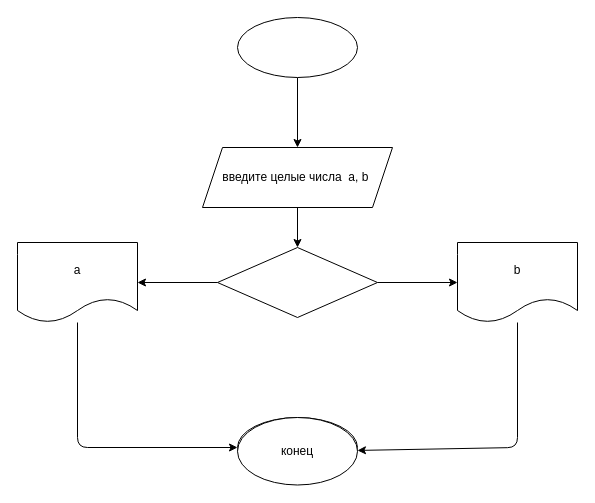
Image size: 595x503. Some labels were removed from this diagram. Here are the shapes that lost their labels. From the top down, the centre of each, then its label:
At point 297,47: "начало".
At point 297,282: "a < b".
